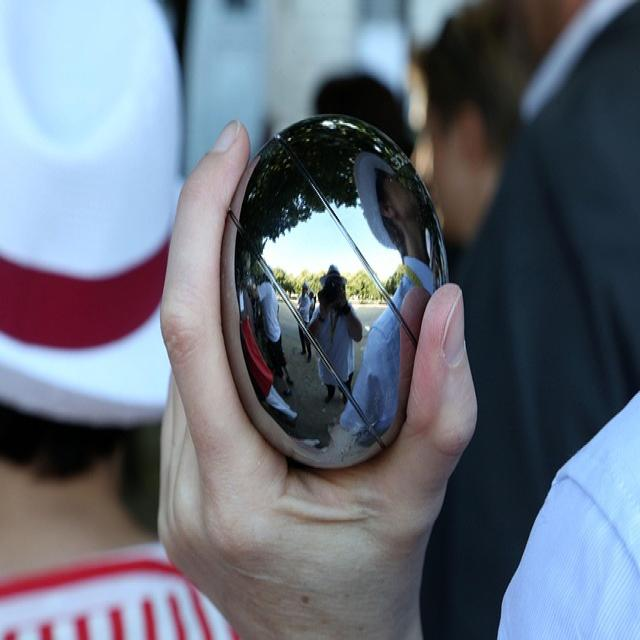petanque: (215, 109, 453, 481)
